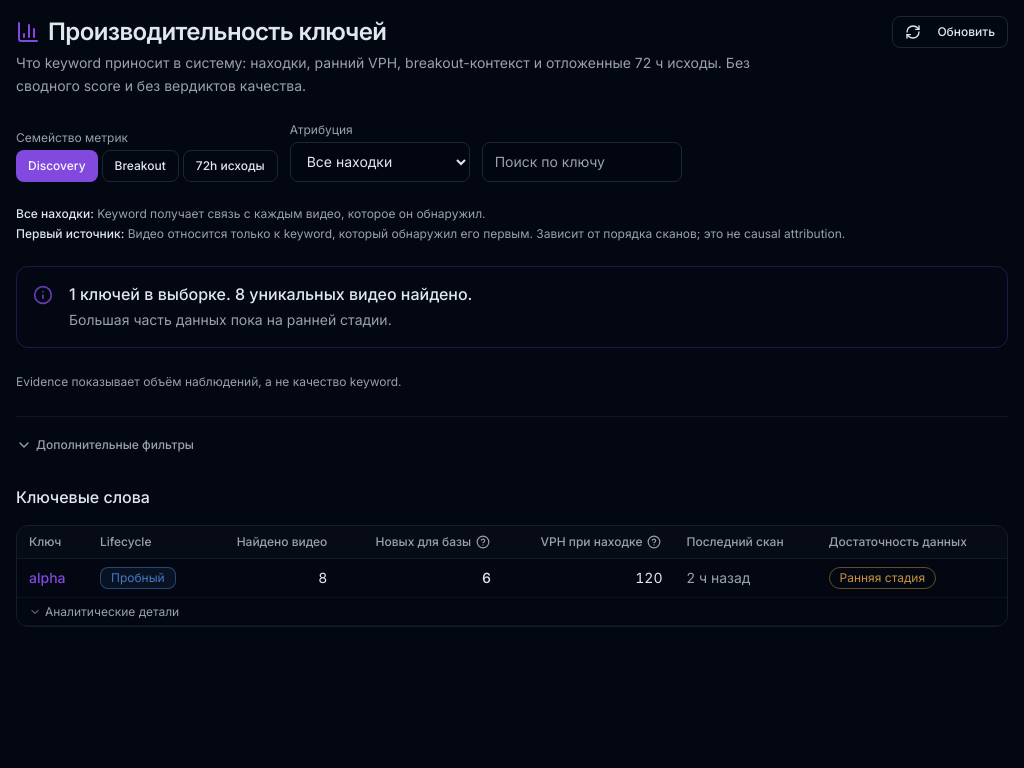
Test case: KeywordPerformanceDashboard › observed_72h=0 shows unavailable phrasing in cell
Click the button with test id "metric-family-outcomes" at (230, 166), box [183,150,278,182]
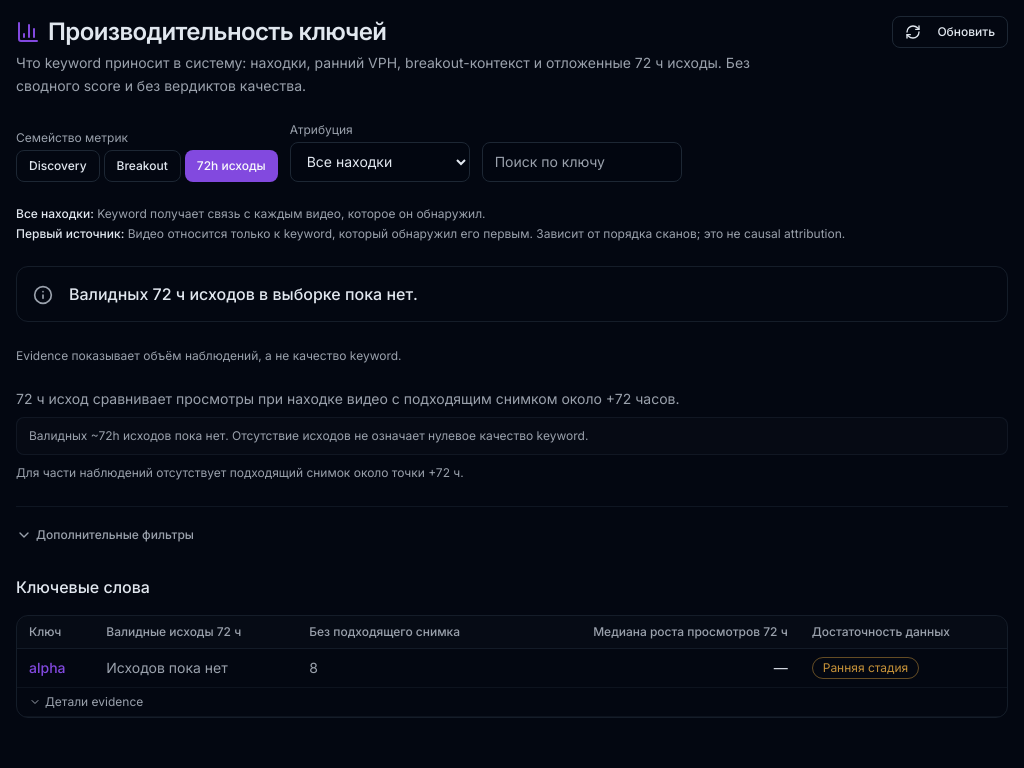
Result: the element with test id "outcomes-table" is shown at [16,615,1008,718]
Result: the element with test id "outcomes-none-yet" is shown at [16,417,1008,454]
Result: the text with test id "observed-72h-1" reads "Исходов пока нет" at [106,659,228,676]
